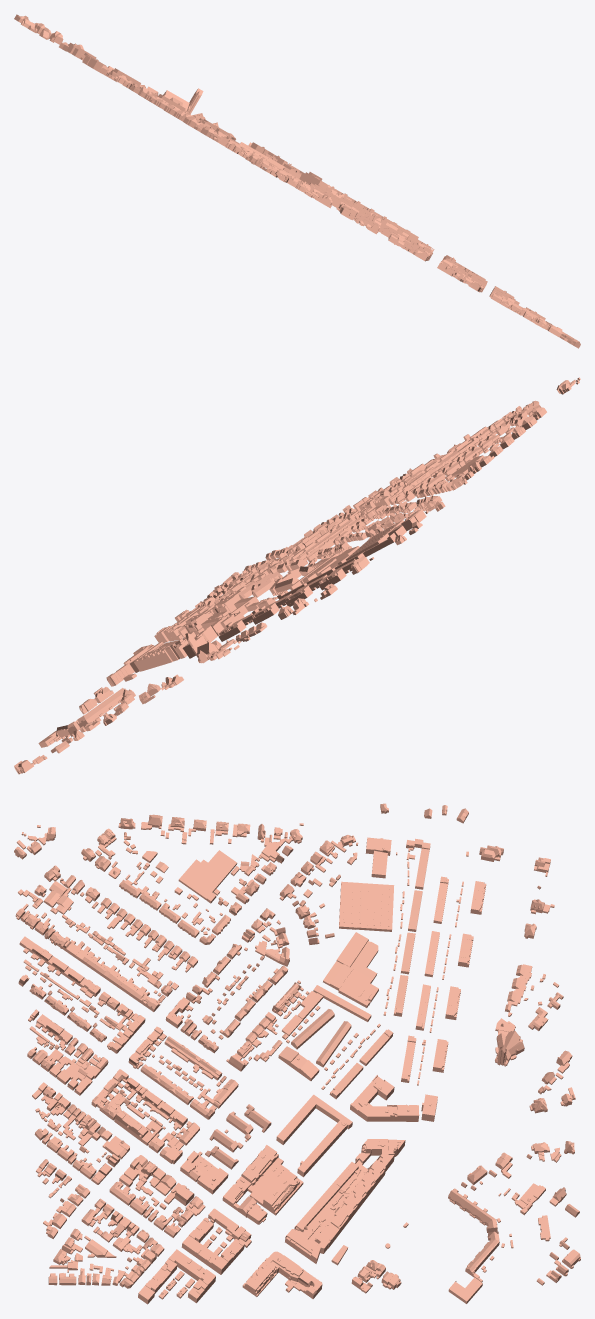
3 renders of one model, top to bottom at view 1: azimuth 30°, elevation 25°; view 2: azimuth 150°, elevation 25°; view 3: azimuth 270°, elevation 25°, orthographic. The views are drawn at different scales.
Bounding box in the file's own units: 518 × 392 × 634.
